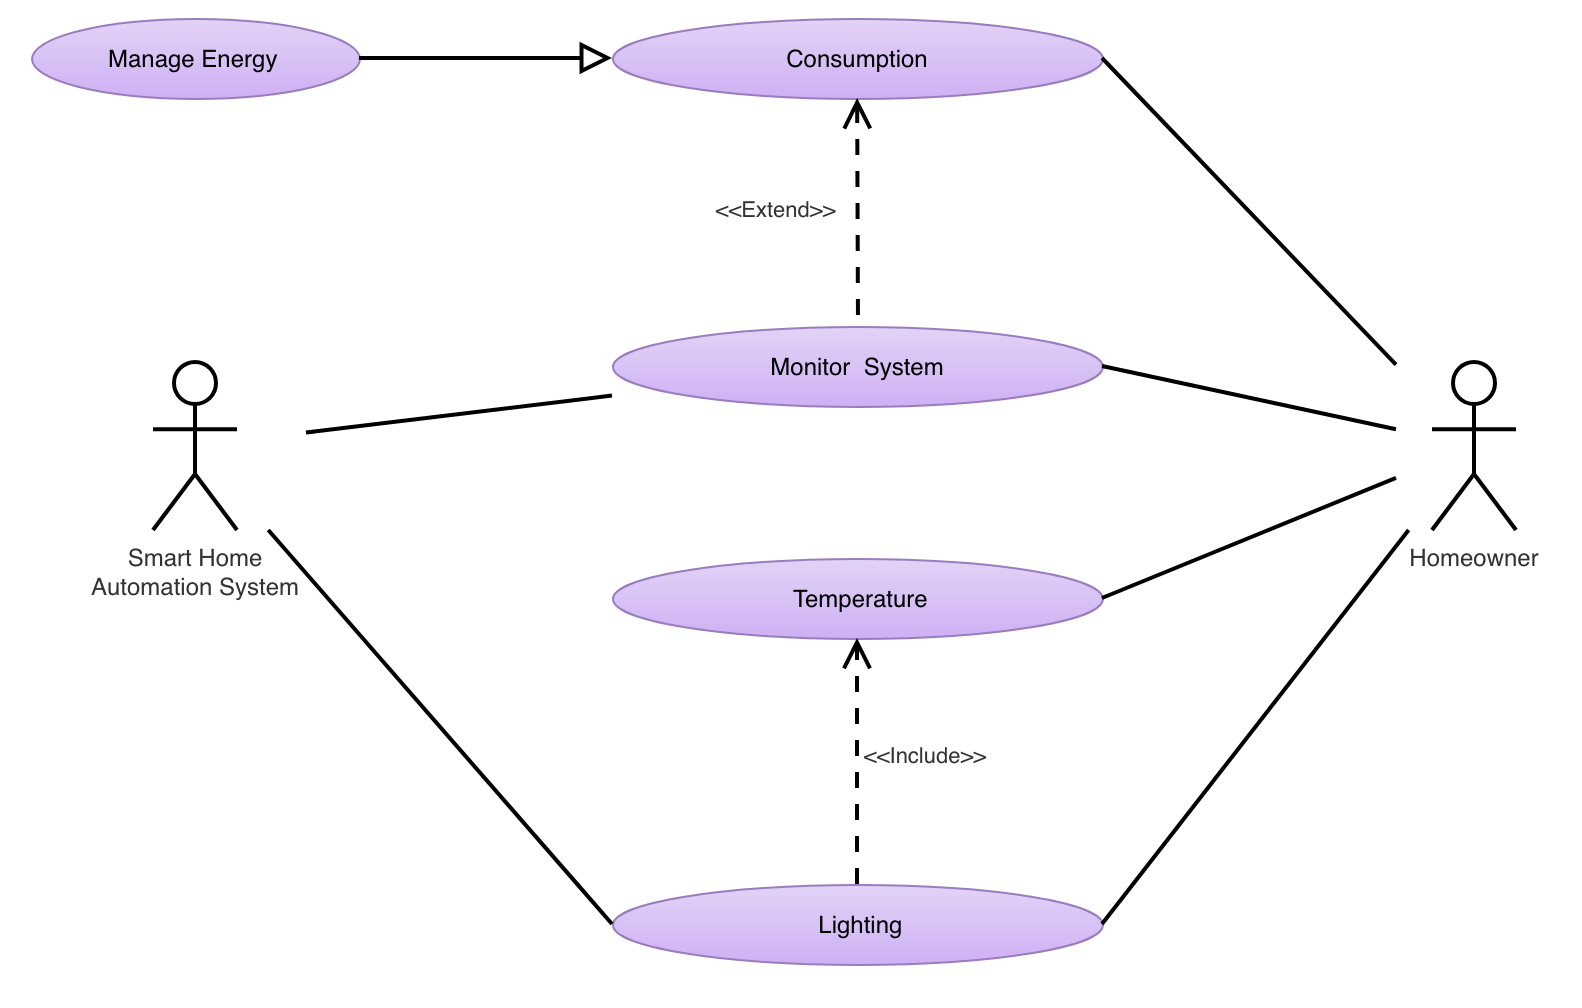actor: (150, 358, 242, 537), (1430, 356, 1521, 536)
association: (264, 531, 611, 922), (1102, 527, 1411, 920), (1105, 59, 1402, 369), (1106, 473, 1396, 599), (1103, 362, 1400, 431), (300, 393, 611, 434), (838, 637, 875, 882), (839, 100, 873, 319)
generalization: (362, 39, 609, 77)
text: (81, 541, 302, 604), (104, 42, 291, 77), (764, 38, 939, 76), (767, 585, 940, 617), (760, 356, 960, 384), (705, 188, 836, 230), (865, 734, 992, 773), (1403, 542, 1543, 574), (811, 907, 920, 945)
use_case: (608, 555, 1107, 642), (609, 323, 1107, 411), (610, 882, 1103, 969), (610, 16, 1107, 100), (30, 15, 360, 105)
